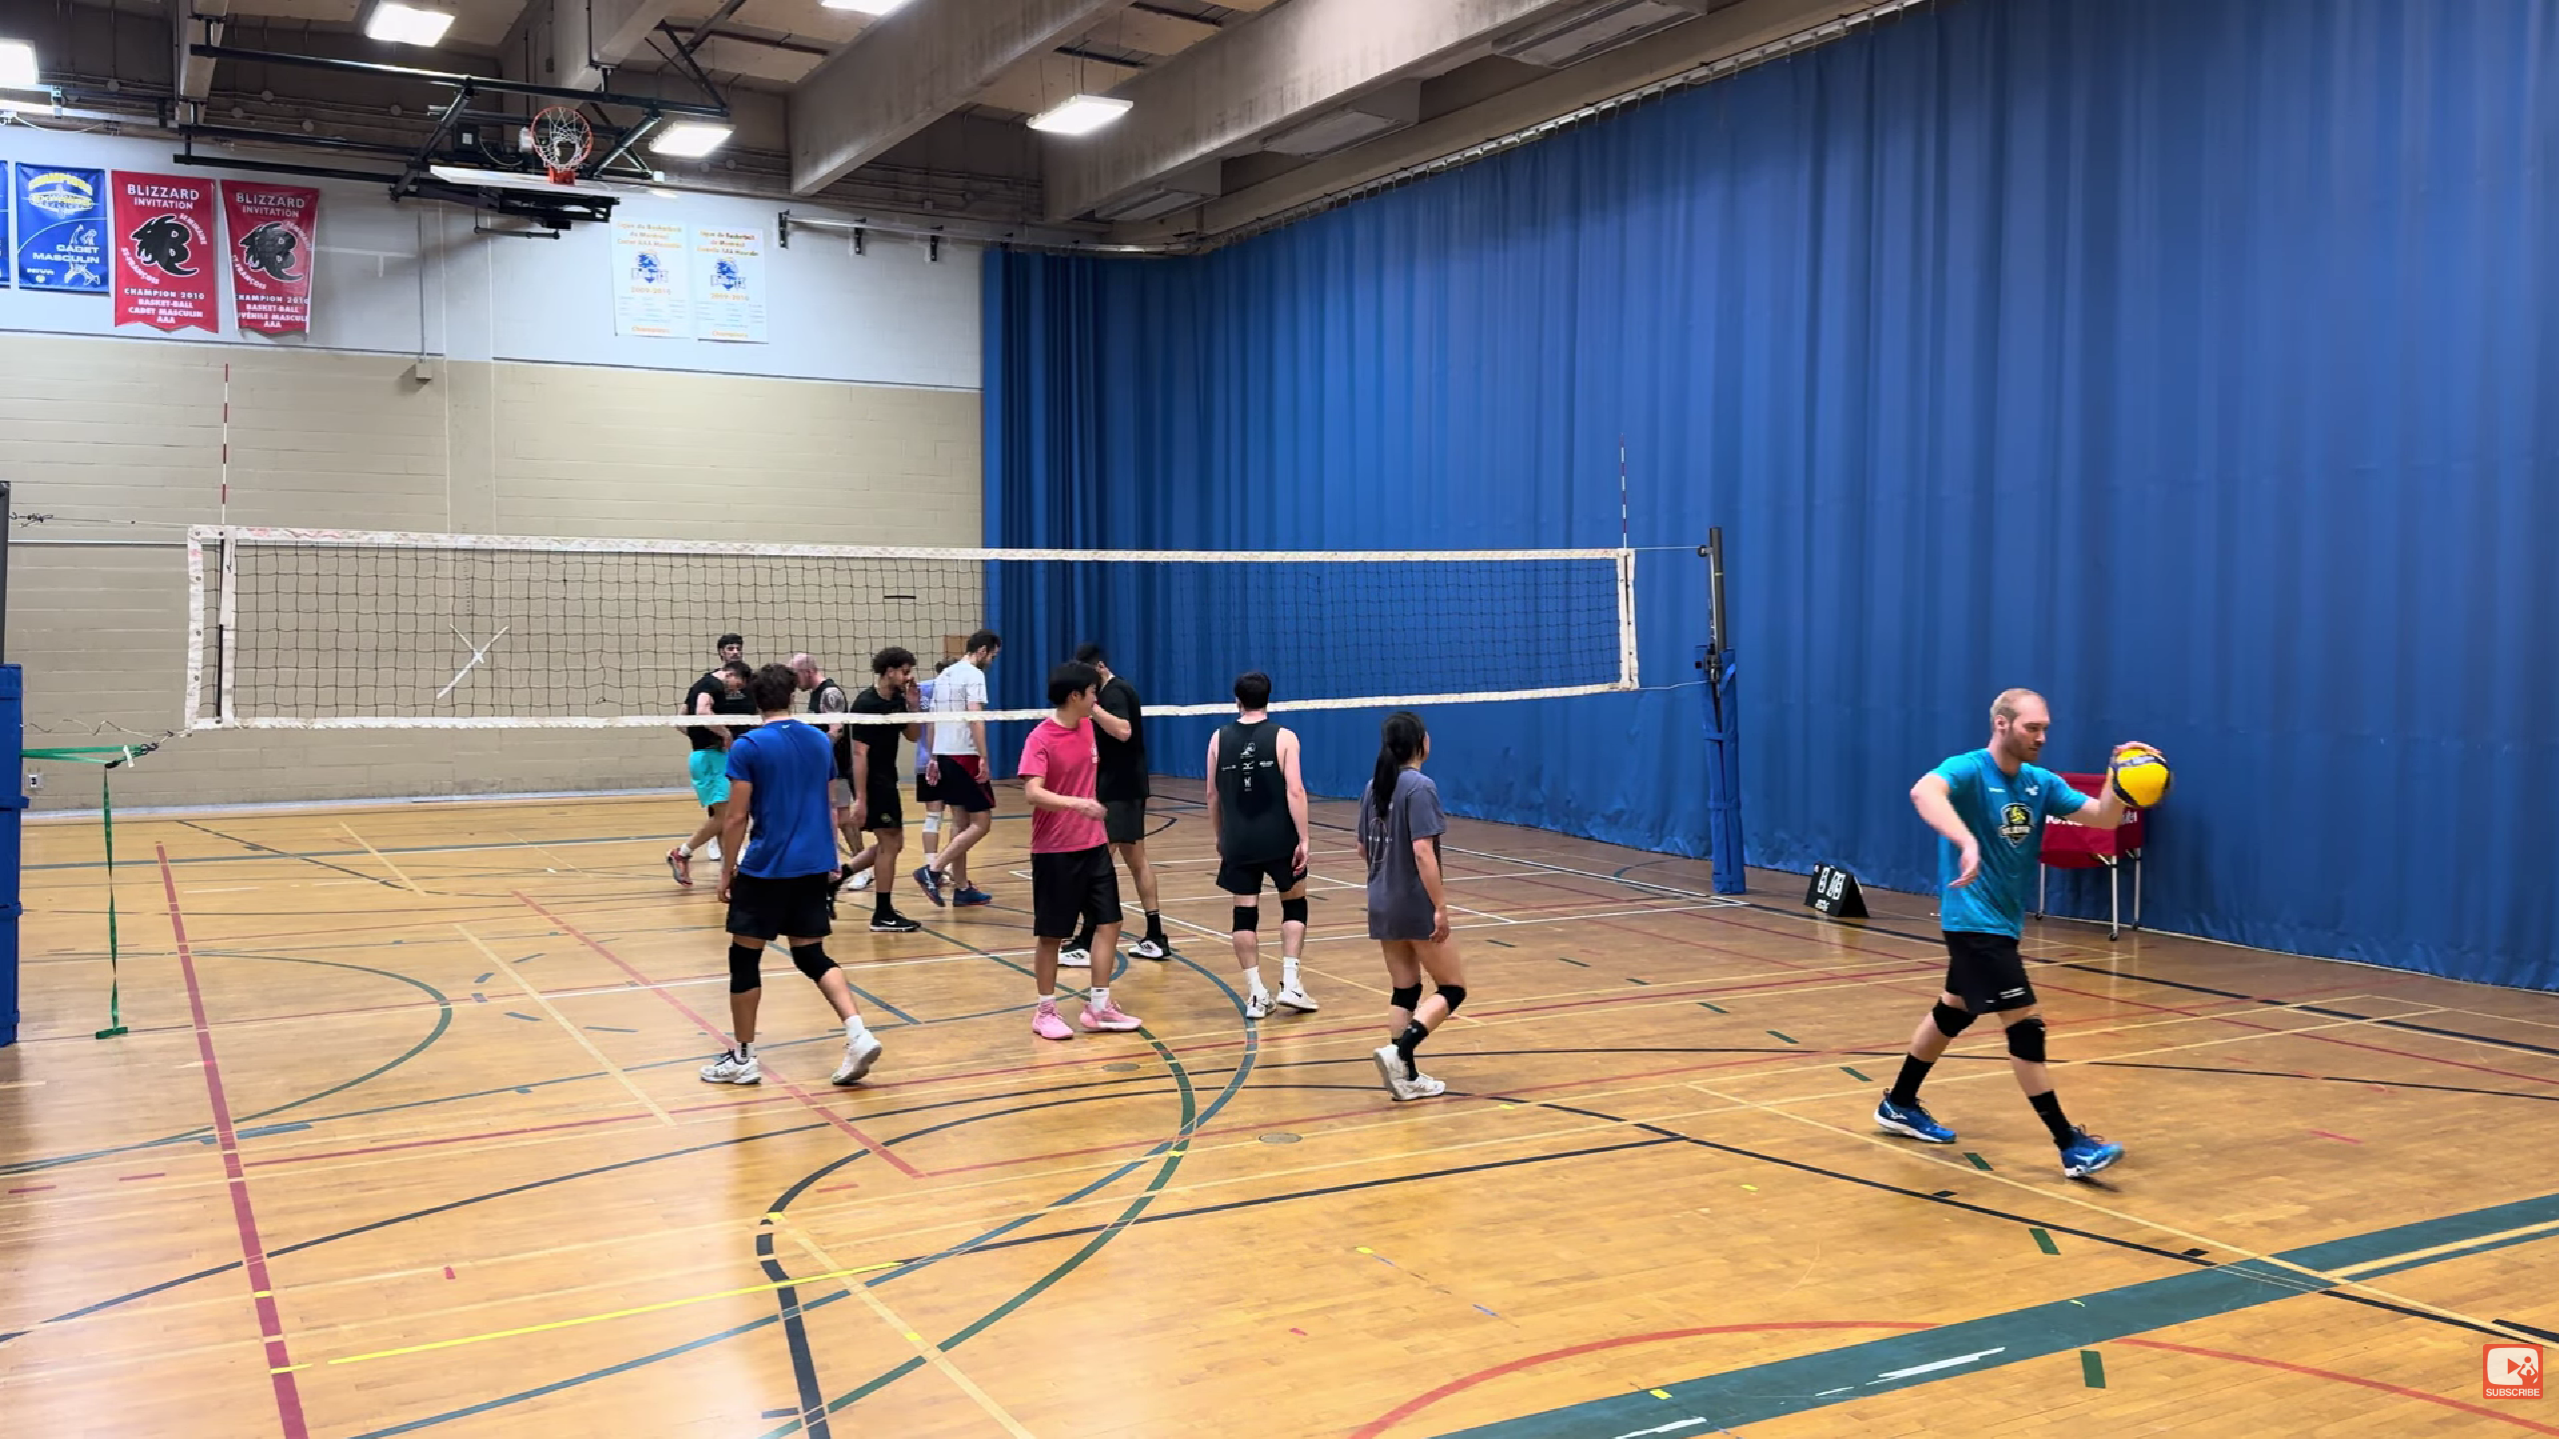Ball: (2104, 745, 2174, 812)
